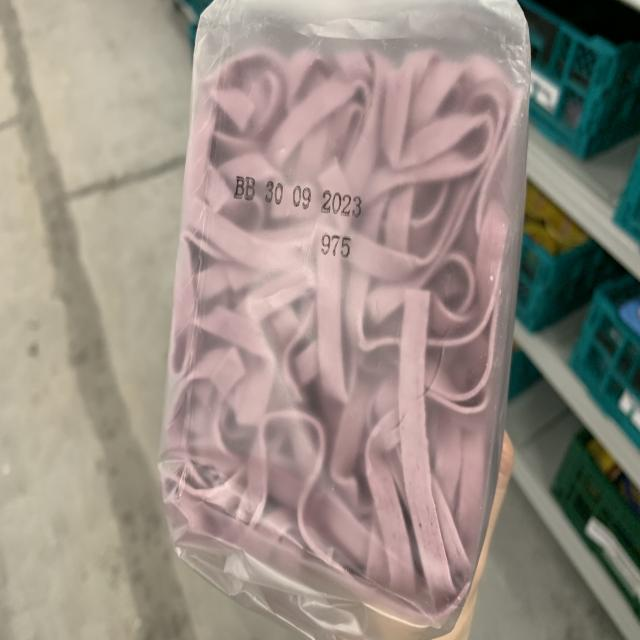object_name: (193, 19, 477, 587)
